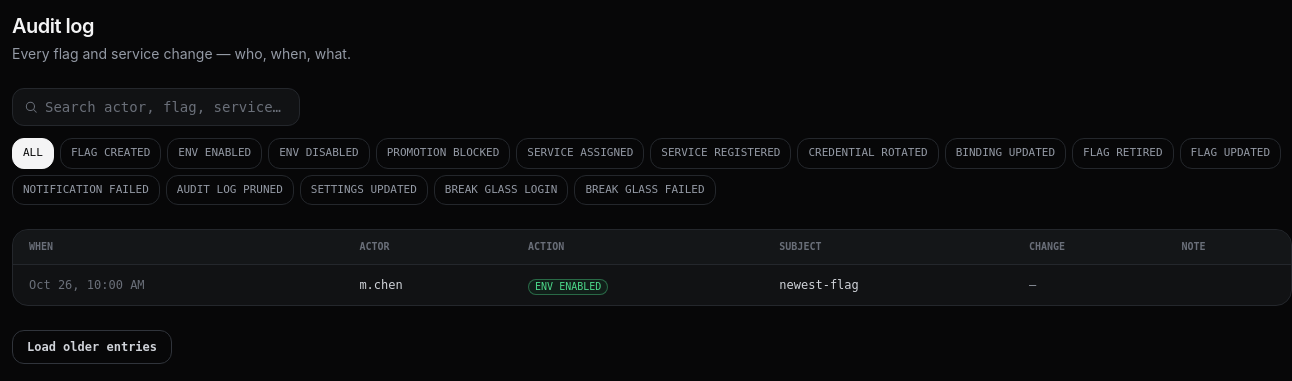
AuditLogPage with the API › asks the server again when an action filter is chosen
Check: the text "newest-flag" is shown, box [763,265,1013,305]
Click the button "promotion blocked".
click(443, 153)  # box [376,138,510,168]
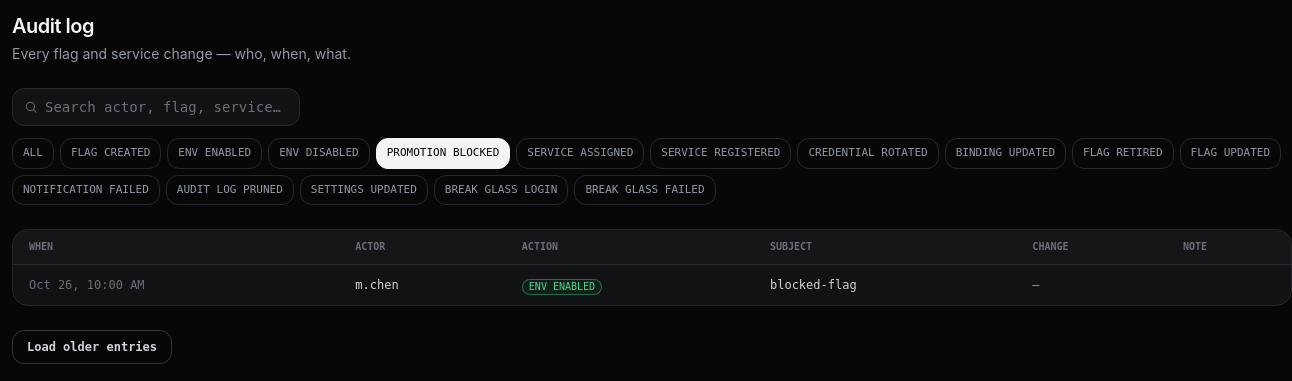
Check: the text "blocked-flag" is shown, box [754,265,1016,305]
